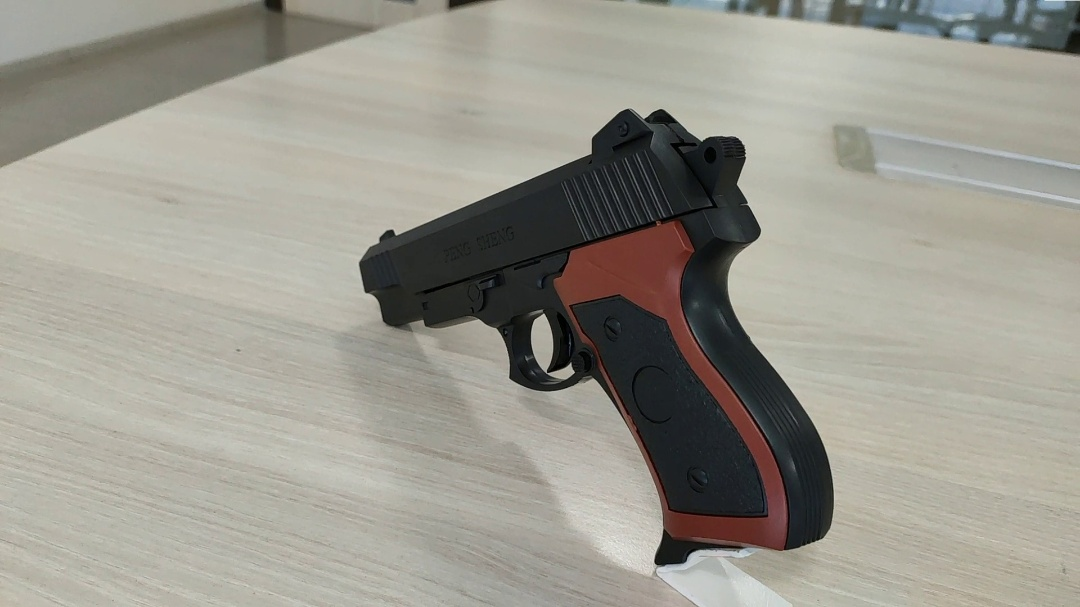gun: (359, 108, 837, 567)
